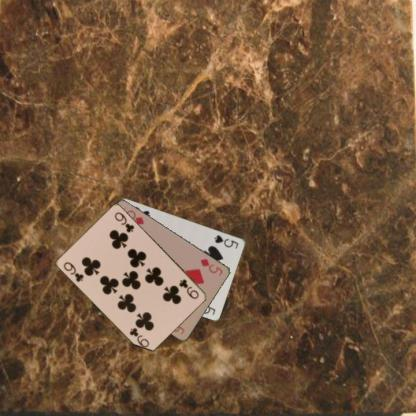5d: (198, 256, 224, 278)
5s: (212, 232, 240, 250)
9c: (61, 260, 86, 283), (177, 277, 200, 300)
